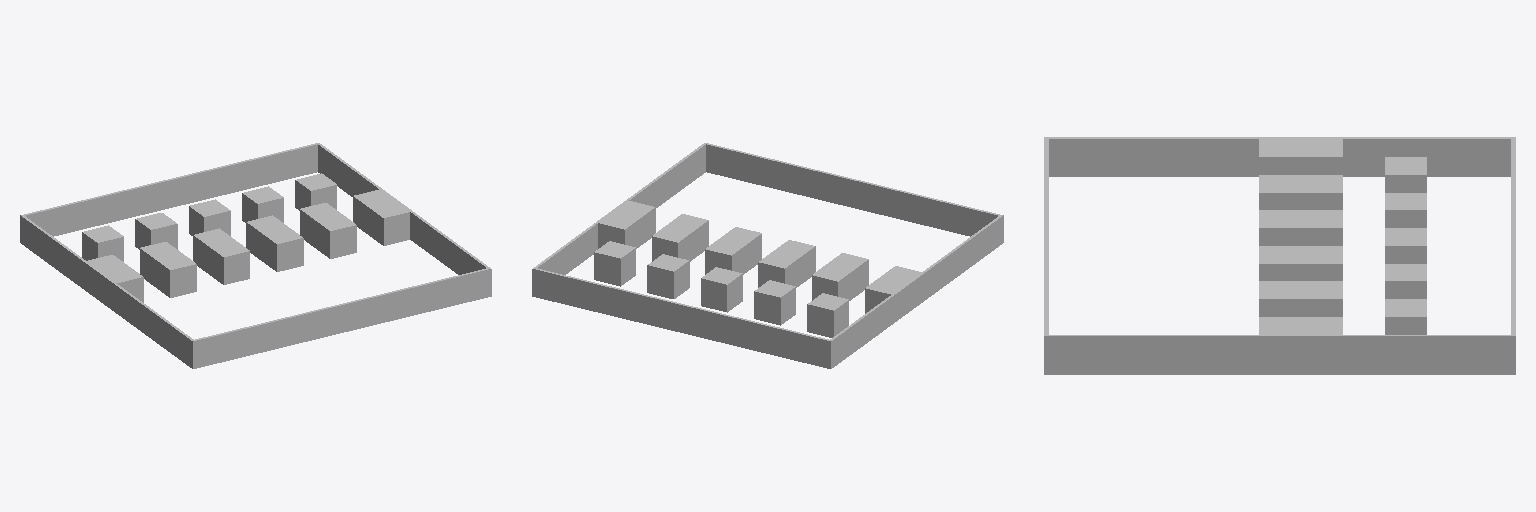
robot.urdf — plane:
<?xml version="0.0" ?>
<robot name="plane">
  <link name="planeLink">
  <contact>
      <lateral_friction value="1"/>
  </contact>
    <inertial>
      <origin rpy="0 0 0" xyz="0 0 0"/>
       <mass value=".0"/>
       <inertia ixx="0" ixy="0" ixz="0" iyy="0" iyz="0" izz="0"/>
    </inertial>
    <visual>
      <origin rpy="0 0 0" xyz="0 0 0"/>
      <geometry>
				<mesh filename="plane100.obj" scale="1 1 1"/>
      </geometry>
       <material name="white">
        <color rgba="1 1 1 1"/>
      </material>
    </visual>
    <collision>
      <origin rpy="0 0 0" xyz="0 0 -5"/>
      <geometry>
	 	<box size="200 200 10"/>
      </geometry>
    </collision>
  </link>

  <joint name="wall_1_joint" type="fixed">
    <origin rpy="0 0 0" xyz="0 0 0"/>
    <parent link="planeLink"/>
    <child link="wall_1"/>
  </joint>

  <link name="wall_1">
  	<visual>
      <origin rpy="0 0 0" xyz="5.55 -0.05 0"/>
      <geometry>
	 	<box size="11.1 0.1 1"/>
      </geometry>
      <material name="grey">
	    <color rgba="0.8 0.8 0.8 1"/>
	  </material>
    </visual>
    <collision>
     <origin rpy="0 0 0" xyz="5.55 -0.05 0"/>
      <geometry>
	 	<box size="11.1 0.1 1"/>
      </geometry>
    </collision>
    <inertial>
      <mass value="1"/>
      <inertia ixx="0.0" ixy="0.0" ixz="0.0" iyy="0.0" iyz="0.0" izz="0.0"/>
    </inertial>
  </link>

  <joint name="wall_2_joint" type="fixed">
    <origin rpy="0 0 0" xyz="0 0 0"/>
    <parent link="planeLink"/>
    <child link="wall_2"/>
  </joint>

  <link name="wall_2">
  	<visual>
      <origin rpy="0 0 0" xyz="11.05 5.55 0"/>
      <geometry>
	 	<box size="0.1 11.1 1"/>
      </geometry>
      <material name="grey">
	    <color rgba="0.8 0.8 0.8 1"/>
	  </material>
    </visual>
    <collision>
      <origin rpy="0 0 0" xyz="11.05 5.55 0"/>
      <geometry>
	 	<box size="0.1 11.1 1"/>
      </geometry>
    </collision>
    <inertial>
      <mass value="1"/>
      <inertia ixx="0.0" ixy="0.0" ixz="0.0" iyy="0.0" iyz="0.0" izz="0.0"/>
    </inertial>
  </link>

  <joint name="wall_3_joint" type="fixed">
    <origin rpy="0 0 0" xyz="0 0 0"/>
    <parent link="planeLink"/>
    <child link="wall_3"/>
  </joint>

  <link name="wall_3">
  	<visual>
      <origin rpy="0 0 0" xyz="5.45 11.05 0"/>
      <geometry>
	 	<box size="11.1 0.1 1"/>
      </geometry>
      <material name="grey">
	    <color rgba="0.8 0.8 0.8 1"/>
	  </material>
    </visual>
    <collision>
      <origin rpy="0 0 0" xyz="5.45 11.05 0"/>
      <geometry>
	 	<box size="11.1 0.1 1"/>
      </geometry>
    </collision>
    <inertial>
      <mass value="1"/>
      <inertia ixx="0.0" ixy="0.0" ixz="0.0" iyy="0.0" iyz="0.0" izz="0.0"/>
    </inertial>
  </link>

  <joint name="wall_4_joint" type="fixed">
    <origin rpy="0 0 0" xyz="0 0 0"/>
    <parent link="planeLink"/>
    <child link="wall_4"/>
  </joint>

  <link name="wall_4">
  	<visual>
      <origin rpy="0 0 0" xyz="-0.05 5.45 0"/>
      <geometry>
	 	<box size="0.1 11.1 1"/>
      </geometry>
      <material name="grey">
	    <color rgba="0.8 0.8 0.8 1"/>
	  </material>
    </visual>
    <collision>
      <origin rpy="0 0 0" xyz="-0.05 5.45 0"/>
      <geometry>
	 	<box size="0.1 11.1 1"/>
      </geometry>
    </collision>
    <inertial>
      <mass value="1"/>
      <inertia ixx="0.0" ixy="0.0" ixz="0.0" iyy="0.0" iyz="0.0" izz="0.0"/>
    </inertial>
  </link>

  <joint name="rectangle_1_joint" type="fixed">
    <origin rpy="0 0 0" xyz="0 0 0"/>
    <parent link="planeLink"/>
    <child link="rectangle_1"/>
  </joint>

  <link name="rectangle_1">
  	<visual>
      <origin rpy="0 0 0" xyz="0.5 6 0"/>
      <geometry>
	 	<box size="1 2 1"/>
      </geometry>
      <material name="grey">
	    <color rgba="0.8 0.8 0.8 1"/>
	  </material>
    </visual>
    <collision>
      <origin rpy="0 0 0" xyz="0.5 6 0"/>
      <geometry>
	 	<box size="1 2 1"/>
      </geometry>
    </collision>
    <inertial>
      <mass value="1"/>
      <inertia ixx="0.0" ixy="0.0" ixz="0.0" iyy="0.0" iyz="0.0" izz="0.0"/>
    </inertial>
  </link>

  <joint name="rectangle_2_joint" type="fixed">
    <origin rpy="0 0 0" xyz="0 0 0"/>
    <parent link="planeLink"/>
    <child link="rectangle_2"/>
  </joint>

  <link name="rectangle_2">
  	<visual>
      <origin rpy="0 0 0" xyz="2.5 6 0"/>
      <geometry>
	 	<box size="1 2 1"/>
      </geometry>
      <material name="grey">
	    <color rgba="0.8 0.8 0.8 1"/>
	  </material>
    </visual>
    <collision>
      <origin rpy="0 0 0" xyz="2.5 6 0"/>
      <geometry>
	 	<box size="1 2 1"/>
      </geometry>
    </collision>
    <inertial>
      <mass value="1"/>
      <inertia ixx="0.0" ixy="0.0" ixz="0.0" iyy="0.0" iyz="0.0" izz="0.0"/>
    </inertial>
  </link>

  <joint name="rectangle_3_joint" type="fixed">
    <origin rpy="0 0 0" xyz="0 0 0"/>
    <parent link="planeLink"/>
    <child link="rectangle_3"/>
  </joint>

  <link name="rectangle_3">
  	<visual>
      <origin rpy="0 0 0" xyz="4.5 6 0"/>
      <geometry>
	 	<box size="1 2 1"/>
      </geometry>
      <material name="grey">
	    <color rgba="0.8 0.8 0.8 1"/>
	  </material>
    </visual>
    <collision>
      <origin rpy="0 0 0" xyz="4.5 6 0"/>
      <geometry>
	 	<box size="1 2 1"/>
      </geometry>
    </collision>
    <inertial>
      <mass value="1"/>
      <inertia ixx="0.0" ixy="0.0" ixz="0.0" iyy="0.0" iyz="0.0" izz="0.0"/>
    </inertial>
  </link>

  <joint name="rectangle_4_joint" type="fixed">
    <origin rpy="0 0 0" xyz="0 0 0"/>
    <parent link="planeLink"/>
    <child link="rectangle_4"/>
  </joint>

  <link name="rectangle_4">
  	<visual>
      <origin rpy="0 0 0" xyz="6.5 6 0"/>
      <geometry>
	 	<box size="1 2 1"/>
      </geometry>
      <material name="grey">
	    <color rgba="0.8 0.8 0.8 1"/>
	  </material>
    </visual>
    <collision>
      <origin rpy="0 0 0" xyz="6.5 6 0"/>
      <geometry>
	 	<box size="1 2 1"/>
      </geometry>
    </collision>
    <inertial>
      <mass value="1"/>
      <inertia ixx="0.0" ixy="0.0" ixz="0.0" iyy="0.0" iyz="0.0" izz="0.0"/>
    </inertial>
  </link>

  <joint name="rectangle_5_joint" type="fixed">
    <origin rpy="0 0 0" xyz="0 0 0"/>
    <parent link="planeLink"/>
    <child link="rectangle_5"/>
  </joint>

  <link name="rectangle_5">
  	<visual>
      <origin rpy="0 0 0" xyz="8.5 6 0"/>
      <geometry>
	 	<box size="1 2 1"/>
      </geometry>
      <material name="grey">
	    <color rgba="0.8 0.8 0.8 1"/>
	  </material>
    </visual>
    <collision>
      <origin rpy="0 0 0" xyz="8.5 6 0"/>
      <geometry>
	 	<box size="1 2 1"/>
      </geometry>
    </collision>
    <inertial>
      <mass value="1"/>
      <inertia ixx="0.0" ixy="0.0" ixz="0.0" iyy="0.0" iyz="0.0" izz="0.0"/>
    </inertial>
  </link>

  <joint name="rectangle_6_joint" type="fixed">
    <origin rpy="0 0 0" xyz="0 0 0"/>
    <parent link="planeLink"/>
    <child link="rectangle_6"/>
  </joint>

  <link name="rectangle_6">
  	<visual>
      <origin rpy="0 0 0" xyz="10.5 6 0"/>
      <geometry>
	 	<box size="1 2 1"/>
      </geometry>
      <material name="grey">
	    <color rgba="0.8 0.8 0.8 1"/>
	  </material>
    </visual>
    <collision>
      <origin rpy="0 0 0" xyz="10.5 6 0"/>
      <geometry>
	 	<box size="1 2 1"/>
      </geometry>
    </collision>
    <inertial>
      <mass value="1"/>
      <inertia ixx="0.0" ixy="0.0" ixz="0.0" iyy="0.0" iyz="0.0" izz="0.0"/>
    </inertial>
  </link>

  <joint name="box_1_joint" type="fixed">
    <origin rpy="0 0 0" xyz="0 0 0"/>
    <parent link="planeLink"/>
    <child link="box_1"/>
  </joint>

  <link name="box_1">
  	<visual>
      <origin rpy="0 0 0" xyz="1.5 8.5 0"/>
      <geometry>
	 	<box size="1 1 1"/>
      </geometry>
      <material name="grey">
	    <color rgba="0.8 0.8 0.8 1"/>
	  </material>
    </visual>
    <collision>
      <origin rpy="0 0 0" xyz="1.5 8.5 0"/>
      <geometry>
	 	<box size="1 1 1"/>
      </geometry>
    </collision>
    <inertial>
      <mass value="1"/>
      <inertia ixx="0.0" ixy="0.0" ixz="0.0" iyy="0.0" iyz="0.0" izz="0.0"/>
    </inertial>
  </link>

    <joint name="box_2_joint" type="fixed">
    <origin rpy="0 0 0" xyz="0 0 0"/>
    <parent link="planeLink"/>
    <child link="box_2"/>
  </joint>

  <link name="box_2">
  	<visual>
      <origin rpy="0 0 0" xyz="3.5 8.5 0"/>
      <geometry>
	 	<box size="1 1 1"/>
      </geometry>
      <material name="grey">
	    <color rgba="0.8 0.8 0.8 1"/>
	  </material>
    </visual>
    <collision>
      <origin rpy="0 0 0" xyz="3.5 8.5 0"/>
      <geometry>
	 	<box size="1 1 1"/>
      </geometry>
    </collision>
    <inertial>
      <mass value="1"/>
      <inertia ixx="0.0" ixy="0.0" ixz="0.0" iyy="0.0" iyz="0.0" izz="0.0"/>
    </inertial>
  </link>

    <joint name="box_3_joint" type="fixed">
    <origin rpy="0 0 0" xyz="0 0 0"/>
    <parent link="planeLink"/>
    <child link="box_3"/>
  </joint>

  <link name="box_3">
  	<visual>
      <origin rpy="0 0 0" xyz="5.5 8.5 0"/>
      <geometry>
	 	<box size="1 1 1"/>
      </geometry>
      <material name="grey">
	    <color rgba="0.8 0.8 0.8 1"/>
	  </material>
    </visual>
    <collision>
      <origin rpy="0 0 0" xyz="5.5 8.5 0"/>
      <geometry>
	 	<box size="1 1 1"/>
      </geometry>
    </collision>
    <inertial>
      <mass value="1"/>
      <inertia ixx="0.0" ixy="0.0" ixz="0.0" iyy="0.0" iyz="0.0" izz="0.0"/>
    </inertial>
  </link>

    <joint name="box_4_joint" type="fixed">
    <origin rpy="0 0 0" xyz="0 0 0"/>
    <parent link="planeLink"/>
    <child link="box_4"/>
  </joint>

  <link name="box_4">
  	<visual>
      <origin rpy="0 0 0" xyz="7.5 8.5 0"/>
      <geometry>
	 	<box size="1 1 1"/>
      </geometry>
      <material name="grey">
	    <color rgba="0.8 0.8 0.8 1"/>
	  </material>
    </visual>
    <collision>
      <origin rpy="0 0 0" xyz="7.5 8.5 0"/>
      <geometry>
	 	<box size="1 1 1"/>
      </geometry>
    </collision>
    <inertial>
      <mass value="1"/>
      <inertia ixx="0.0" ixy="0.0" ixz="0.0" iyy="0.0" iyz="0.0" izz="0.0"/>
    </inertial>
  </link>

    <joint name="box_5_joint" type="fixed">
    <origin rpy="0 0 0" xyz="0 0 0"/>
    <parent link="planeLink"/>
    <child link="box_5"/>
  </joint>

  <link name="box_5">
  	<visual>
      <origin rpy="0 0 0" xyz="9.5 8.5 0"/>
      <geometry>
	 	<box size="1 1 1"/>
      </geometry>
      <material name="grey">
	    <color rgba="0.8 0.8 0.8 1"/>
	  </material>
    </visual>
    <collision>
      <origin rpy="0 0 0" xyz="9.5 8.5 0"/>
      <geometry>
	 	<box size="1 1 1"/>
      </geometry>
    </collision>
    <inertial>
      <mass value="1"/>
      <inertia ixx="0.0" ixy="0.0" ixz="0.0" iyy="0.0" iyz="0.0" izz="0.0"/>
    </inertial>
  </link>

</robot>

--- What the picture shows (computed from the rendered views, not written in the file) ---
3 views of the same robot in one strip: view 1: azimuth 30°, elevation 25°; view 2: azimuth 150°, elevation 25°; view 3: azimuth 270°, elevation 25° (orthographic).
Robot: plane — 16 links, 15 joints (15 fixed); root link planeLink; default pose: all joints at 0.
Links seen in each view (by area): view 1: wall_1, wall_3, wall_4, wall_2, rectangle_4, rectangle_5, rectangle_2, rectangle_3, rectangle_6, box_2, box_5, box_3 (+3 smaller); view 2: wall_3, wall_1, wall_4, wall_2, rectangle_6, rectangle_3, rectangle_2, rectangle_5, rectangle_4, box_4, box_3, box_5 (+3 smaller); view 3: wall_2, wall_4, rectangle_1, rectangle_3, rectangle_5, rectangle_2, rectangle_4, rectangle_6, box_1, box_3, box_5, box_2 (+3 smaller).
Boxes of the visible links, <box> form: wall_1: <box>195,268,491,368</box>; wall_3: <box>20,143,317,243</box>; wall_4: <box>22,216,195,368</box>; wall_2: <box>317,143,489,274</box>; rectangle_4: <box>246,215,303,271</box>; rectangle_5: <box>300,203,356,258</box>; rectangle_2: <box>140,242,196,297</box>; rectangle_3: <box>193,228,249,284</box>; rectangle_6: <box>353,189,409,245</box>; box_2: <box>135,213,177,249</box>; box_5: <box>295,173,336,210</box>; box_3: <box>189,199,230,235</box>; wall_3: <box>535,268,832,368</box>; wall_1: <box>704,143,999,236</box>; wall_4: <box>830,215,1003,367</box>; wall_2: <box>532,144,705,296</box>; rectangle_6: <box>598,201,655,248</box>; rectangle_3: <box>758,240,815,287</box>; rectangle_2: <box>812,253,868,300</box>; rectangle_5: <box>652,214,708,261</box>; rectangle_4: <box>705,227,761,274</box>; box_4: <box>647,254,689,298</box>; box_3: <box>701,267,742,312</box>; box_5: <box>594,241,635,286</box>; wall_2: <box>1049,335,1515,374</box>; wall_4: <box>1044,137,1510,176</box>; rectangle_1: <box>1259,139,1342,174</box>; rectangle_3: <box>1259,210,1342,245</box>; rectangle_5: <box>1259,281,1342,316</box>; rectangle_2: <box>1259,175,1342,209</box>; rectangle_4: <box>1259,246,1342,280</box>; rectangle_6: <box>1259,317,1342,334</box>; box_1: <box>1385,157,1426,192</box>; box_3: <box>1385,228,1426,263</box>; box_5: <box>1385,299,1426,334</box>; box_2: <box>1385,193,1426,227</box>.
Size in the robot's own frame: 11.2 by 11.2 by 1 metres.
0 mesh visuals loaded from 1 distinct referenced files (none loaded); not drawn: 1 (file found but could not be loaded).